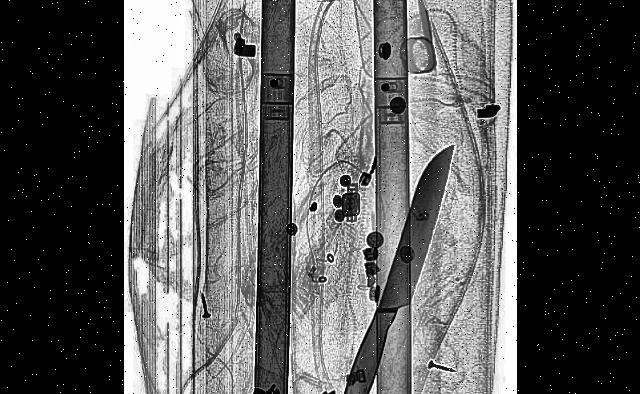Knife: (331, 127, 462, 394)
